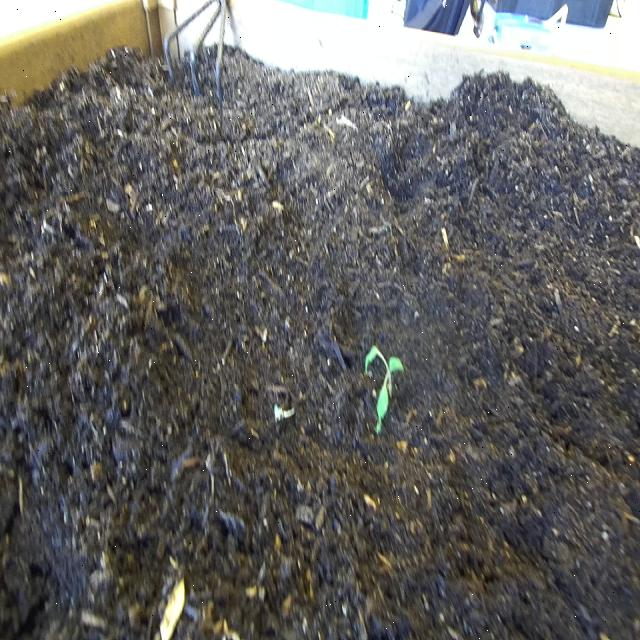Healthy: (364, 340, 405, 436)
